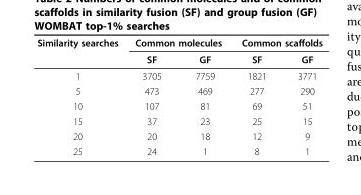table: (36, 36, 321, 156)
table column: (36, 36, 126, 156), (177, 36, 231, 156), (126, 36, 177, 156), (231, 36, 281, 156), (281, 36, 321, 156)
table column header: (36, 36, 321, 67)
table row: (36, 50, 321, 67), (36, 67, 321, 83), (36, 83, 321, 98), (36, 98, 321, 113), (36, 113, 321, 128), (36, 128, 321, 143), (36, 36, 321, 50), (36, 143, 321, 156)
table spanning cell: (36, 36, 126, 67), (126, 36, 231, 50), (231, 36, 321, 50)
